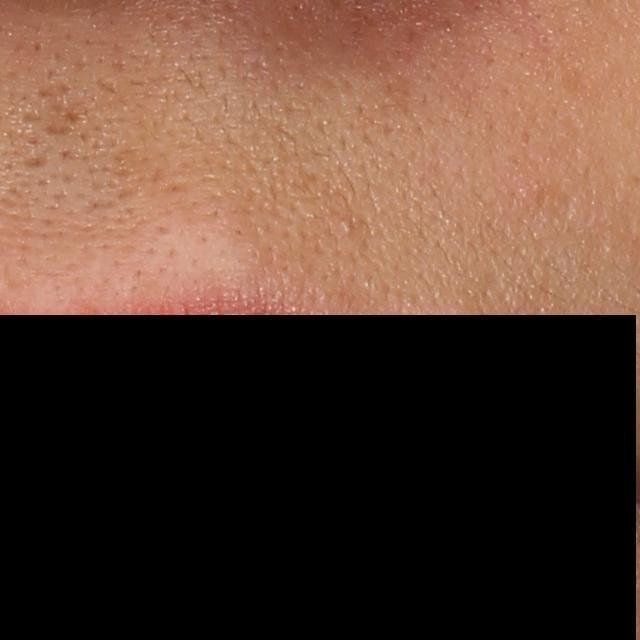atrophic_scar: (38, 80, 81, 137)
comedo: (338, 218, 354, 234)
